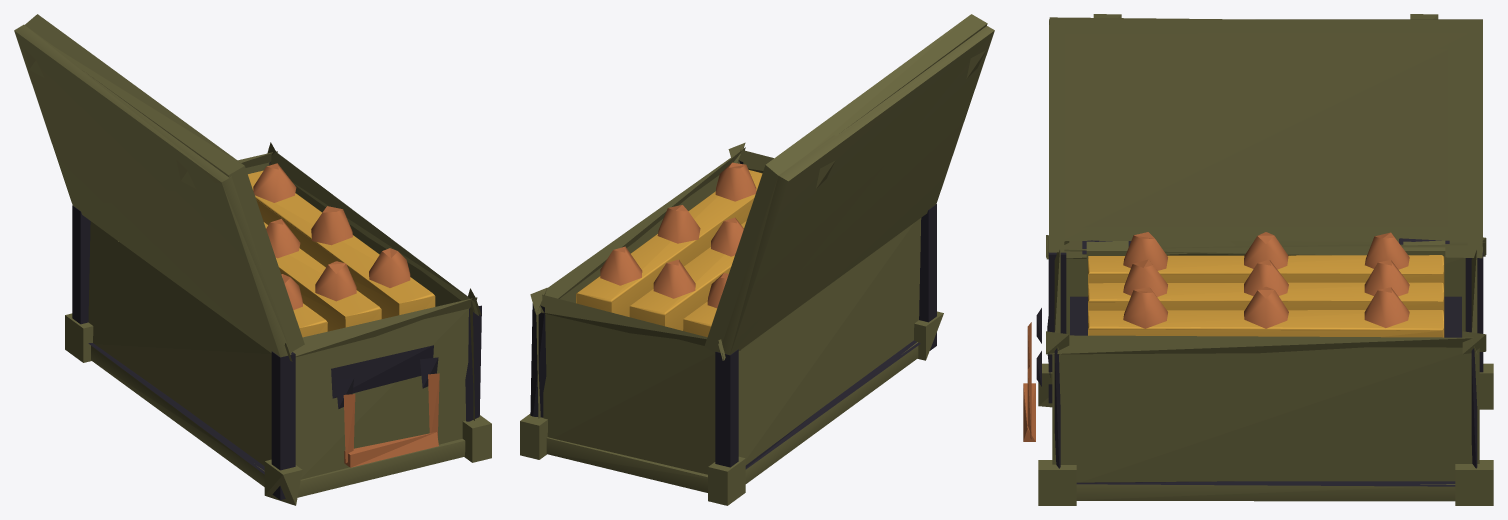
3 renders of one model, left to right at view 1: azimuth 30°, elevation 25°; view 2: azimuth 150°, elevation 25°; view 3: azimuth 270°, elevation 25°, orthographic. The views are drawn at different scales.
Visible parts, largest first — view 1: body_pal_grass, lid_pal_grass, body_pal_uiDark, body_pal_schoolBusYellow, body_pal_woodWarm, handle_pal_woodWarm; view 2: body_pal_grass, lid_pal_grass, body_pal_schoolBusYellow, body_pal_uiDark, body_pal_woodWarm; view 3: lid_pal_grass, body_pal_grass, body_pal_schoolBusYellow, body_pal_woodWarm, body_pal_uiDark, handle_pal_woodWarm.
Part boxes in pixels (x1,y1,x2,y2): body_pal_grass: [65, 142, 491, 505]; lid_pal_grass: [14, 14, 304, 357]; body_pal_uiDark: [72, 162, 481, 500]; body_pal_schoolBusYellow: [248, 170, 435, 337]; body_pal_woodWarm: [253, 163, 410, 309]; handle_pal_woodWarm: [343, 373, 439, 467]; body_pal_grass: [520, 142, 943, 505]; lid_pal_grass: [704, 14, 994, 354]; body_pal_schoolBusYellow: [576, 170, 762, 337]; body_pal_uiDark: [530, 160, 936, 469]; body_pal_woodWarm: [600, 162, 756, 308]; lid_pal_grass: [1049, 14, 1482, 258]; body_pal_grass: [1038, 235, 1493, 505]; body_pal_schoolBusYellow: [1088, 255, 1444, 337]; body_pal_woodWarm: [1123, 232, 1409, 328]; body_pal_uiDark: [1036, 238, 1483, 486]; handle_pal_woodWarm: [1023, 322, 1035, 441].
Size of the model in its own units: 0.455 by 0.5437 by 0.6385.
